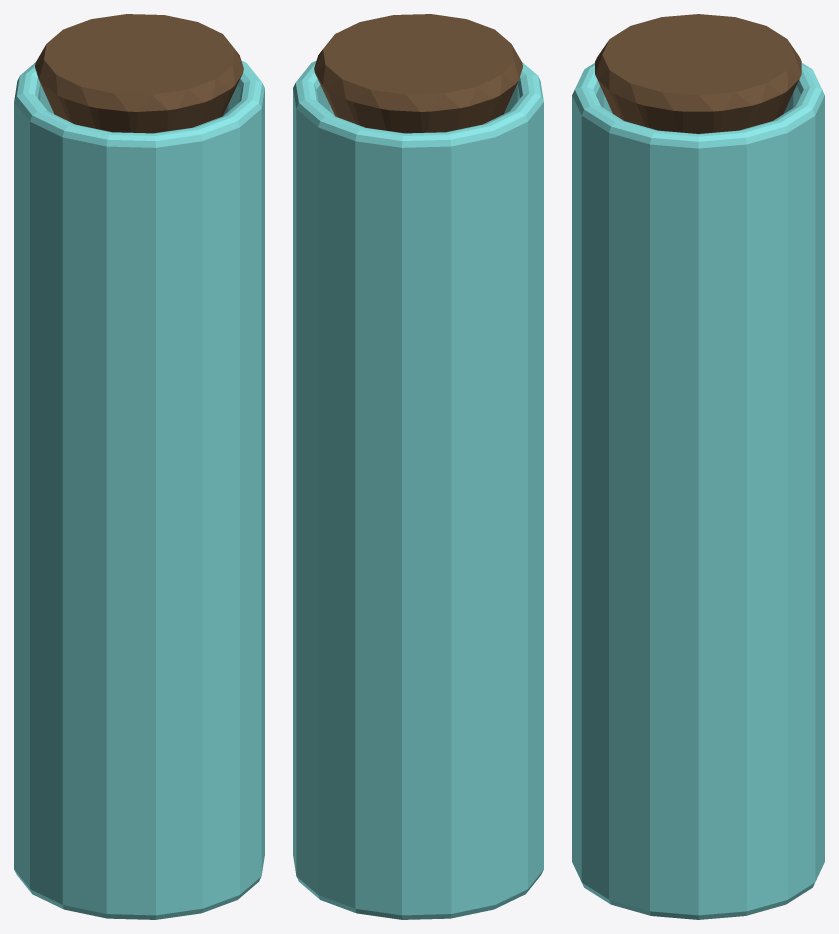
Rendered from str8pot_red.glb.
3 views of the same model, side by side, from view 1: azimuth 30°, elevation 25°; view 2: azimuth 150°, elevation 25°; view 3: azimuth 270°, elevation 25° (orthographic).
Parts seen in each view (by area): view 1: Flask, Cap; view 2: Flask, Cap; view 3: Flask, Cap.
Boxes of the visible parts, bbox=[...] form: Flask: bbox=[14, 60, 264, 919]; Cap: bbox=[35, 14, 243, 133]; Flask: bbox=[293, 60, 543, 919]; Cap: bbox=[314, 14, 522, 133]; Flask: bbox=[572, 63, 824, 919]; Cap: bbox=[595, 14, 801, 133].
Bounding box in the file's own units: 1.4 × 4.98 × 1.4.
